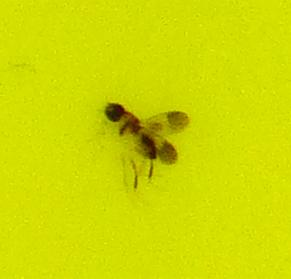Brachycera: (100, 100, 191, 179)
